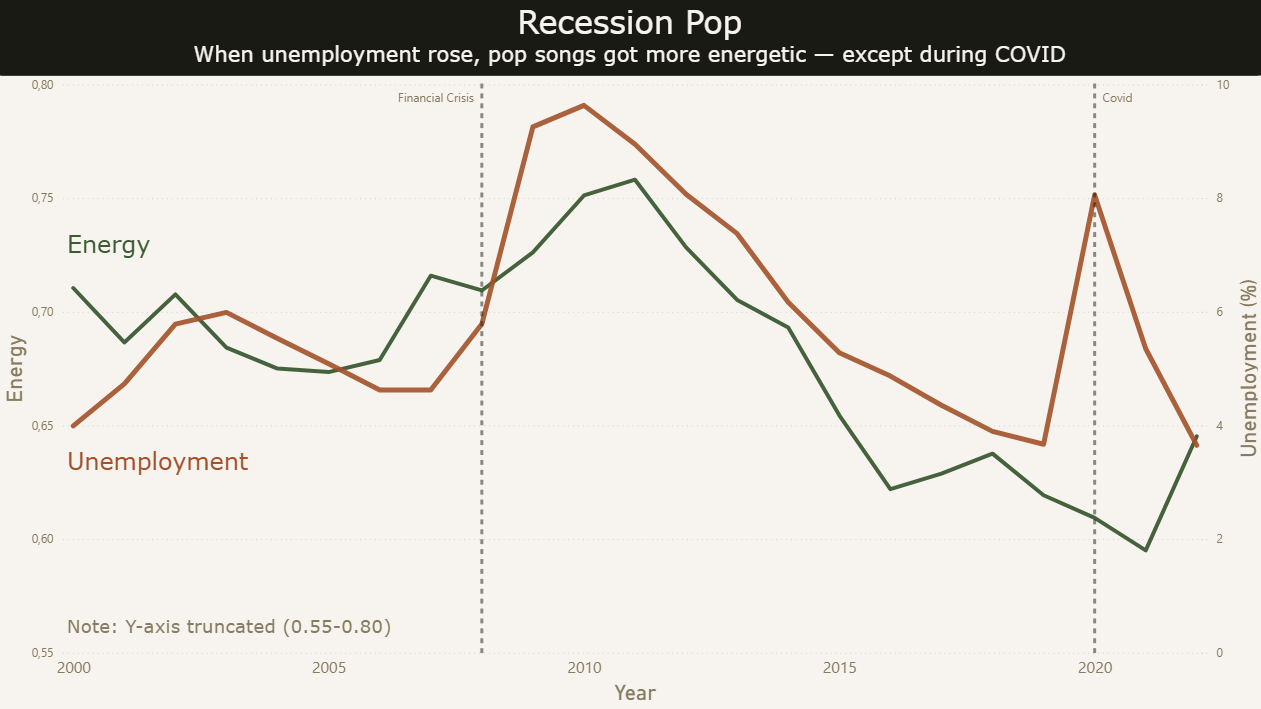

What the dashboard file says about the page in this screenshot:
{"tool":"powerbi","page":{"name":"Energy_vs_Unemployment","canvas":[1280,720],"ordinal":0},"visuals":[{"type":"lineChart","title":"RECESSION POP","fields":{"Category":["musik_wirtschaft_final.year"],"Y":["Sum(musik_wirtschaft_final.Energy)"],"Y2":["Sum(musik_wirtschaft_final.Unemployment)"]},"box":[0,0,1279.5,719.2],"z":0},{"type":"textbox","box":[0,0,1279.5,78.7],"z":1000},{"type":"textbox","box":[66.6,228.6,112.1,46.9],"z":2000},{"type":"textbox","box":[66.6,448.2,224.1,65.1],"z":3000},{"type":"textbox","box":[66.6,617.8,343.7,42.4],"z":3001}]}

Visuals, with their boxes in screenshot pixels (x1, y1, x2, y2), scaled from the page's 1280x720 canvas onto the 1261x709 screenshot:
"RECESSION POP" lineChart: [left=0, top=0, right=1260, bottom=708]
textbox: [left=0, top=0, right=1260, bottom=77]
textbox: [left=66, top=225, right=176, bottom=271]
textbox: [left=66, top=441, right=286, bottom=505]
textbox: [left=66, top=608, right=404, bottom=650]
